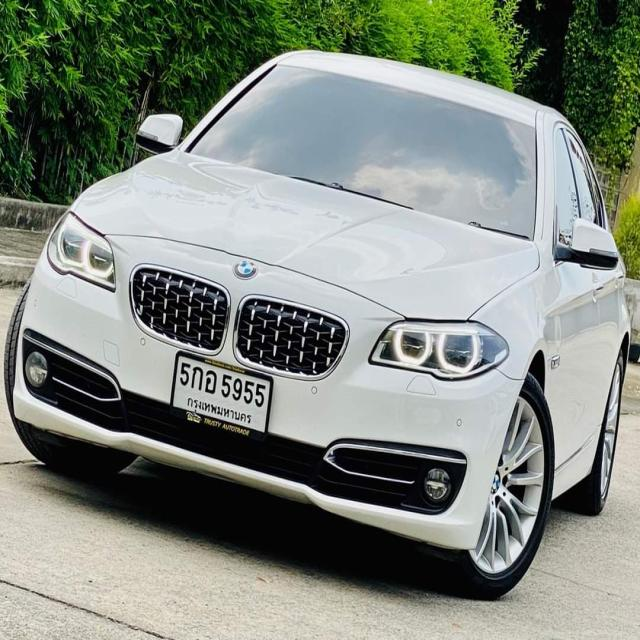license_plate: (168, 348, 275, 450)
